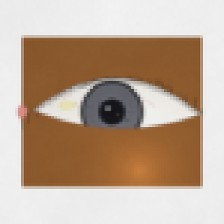pinguecula_lesion: (49, 91, 84, 120)
